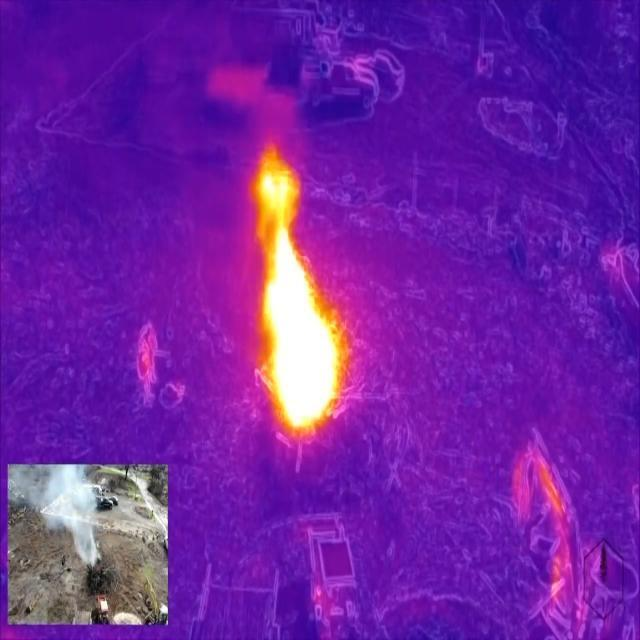fire: (255, 151, 345, 433)
